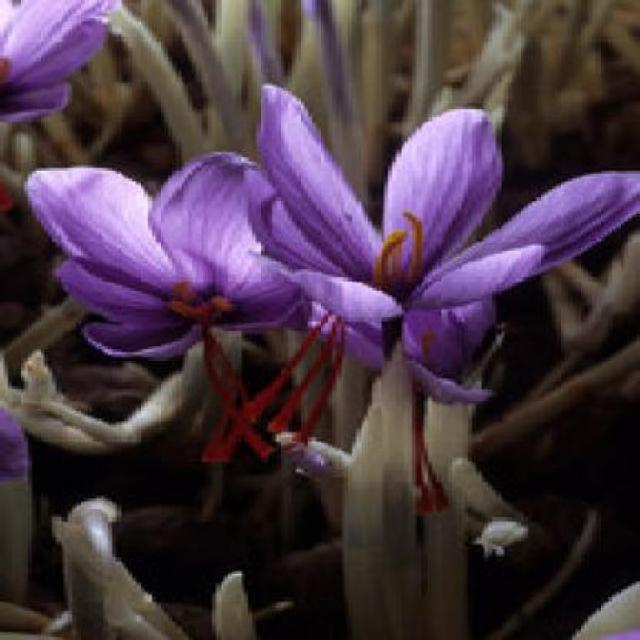Flower: (252, 122, 640, 373), (20, 153, 312, 370)
stigma: (204, 307, 336, 468), (295, 318, 350, 449)
